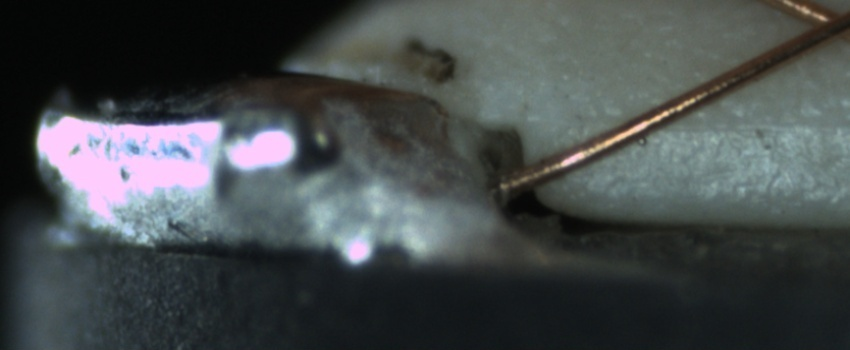CL: (777, 1, 847, 46)
DL: (610, 88, 849, 155)
